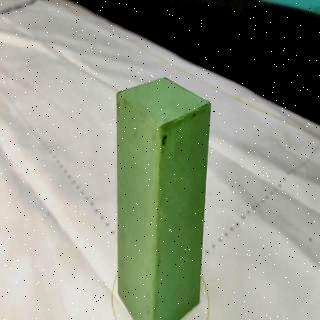greenbox: (115, 77, 211, 320)
